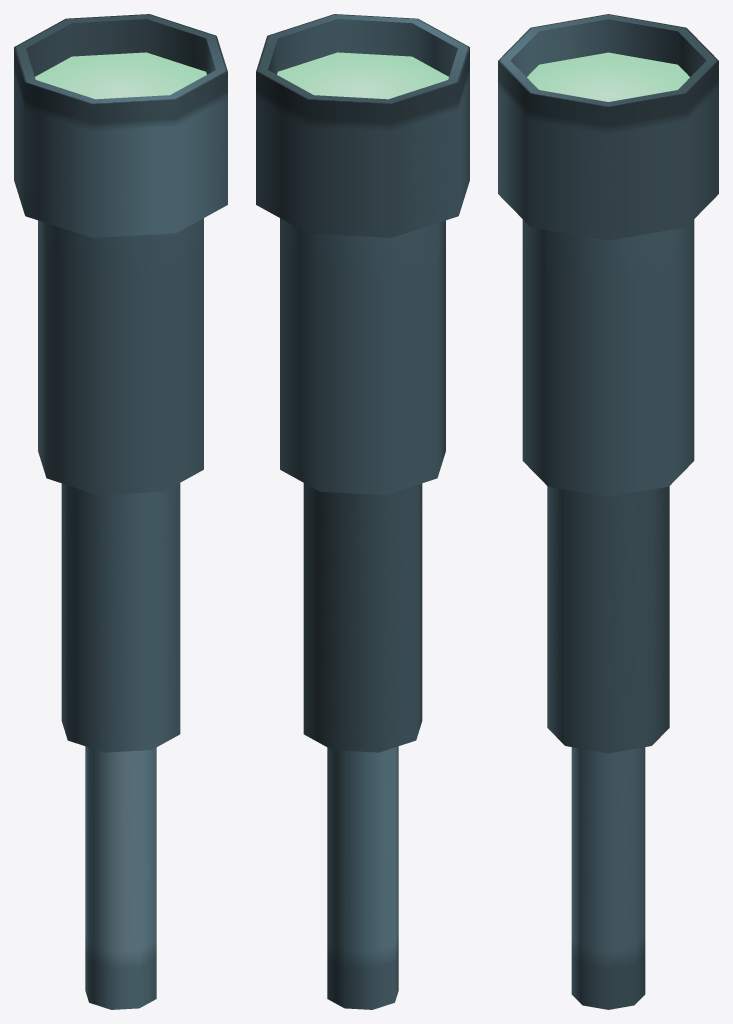
Rendered from handheldtelescope.obj.
The picture shows the model from 3 angles, left to right: view 1: azimuth 30°, elevation 25°; view 2: azimuth 150°, elevation 25°; view 3: azimuth 270°, elevation 25°; orthographic projection.
Parts seen in each view (by area): view 1: Objective_part, Medium_part_2, Medium_part_1, Eyepiece_part; view 2: Objective_part, Medium_part_2, Medium_part_1, Eyepiece_part; view 3: Objective_part, Medium_part_2, Medium_part_1, Eyepiece_part.
Boxes of the visible parts, x1,y1,x2,y2 form: Objective_part: [14, 14, 227, 237]; Medium_part_2: [38, 218, 203, 495]; Medium_part_1: [61, 483, 180, 752]; Eyepiece_part: [85, 746, 156, 1009]; Objective_part: [256, 14, 469, 237]; Medium_part_2: [280, 218, 445, 495]; Medium_part_1: [303, 483, 422, 752]; Eyepiece_part: [327, 746, 398, 1009]; Objective_part: [498, 14, 718, 240]; Medium_part_2: [522, 219, 694, 496]; Medium_part_1: [547, 486, 669, 753]; Eyepiece_part: [571, 747, 645, 1009].
Bounding box in the file's own units: 36 × 168 × 36.
